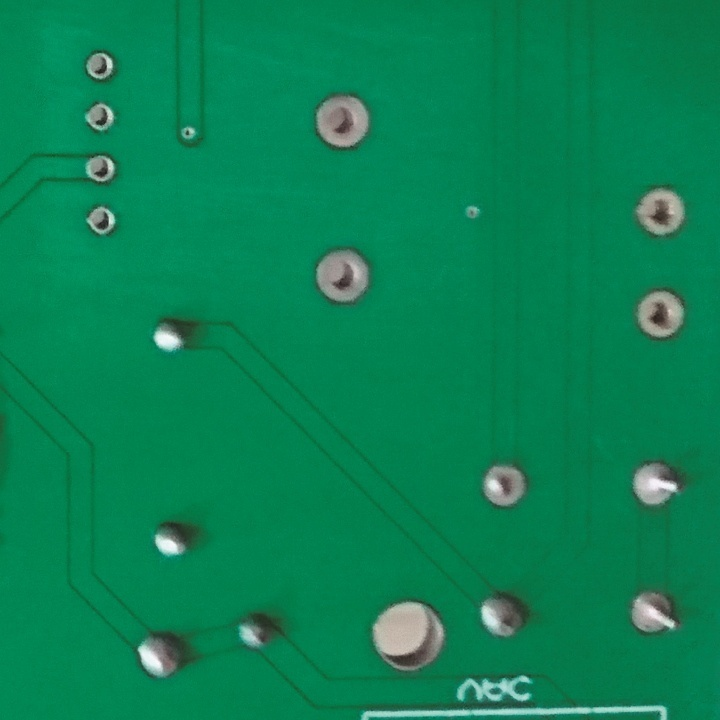F: (310, 91, 373, 150), (313, 246, 374, 305), (635, 183, 688, 241), (635, 286, 687, 344), (627, 589, 680, 641), (630, 458, 681, 510), (479, 461, 528, 512), (82, 152, 119, 186), (84, 47, 118, 83), (84, 204, 118, 239), (82, 101, 119, 132)
